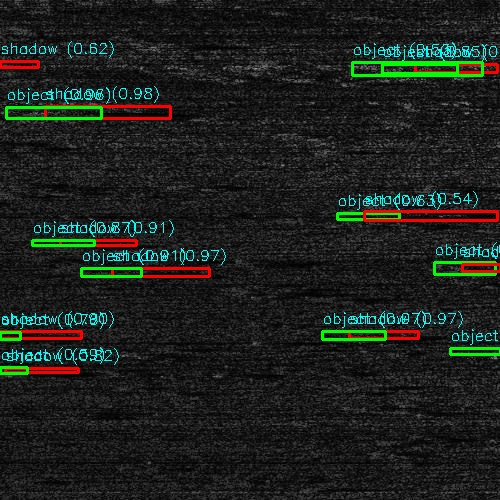rock: (0, 105, 81, 118), (442, 262, 500, 275), (73, 264, 114, 281), (387, 64, 450, 73), (322, 332, 385, 339), (35, 240, 88, 245), (447, 348, 488, 353), (0, 333, 22, 338)
shadow: (94, 264, 201, 281), (40, 105, 161, 118), (419, 64, 491, 73), (354, 332, 420, 339), (0, 333, 72, 338), (62, 240, 131, 245), (474, 262, 500, 275), (468, 348, 500, 353), (0, 62, 11, 67)
